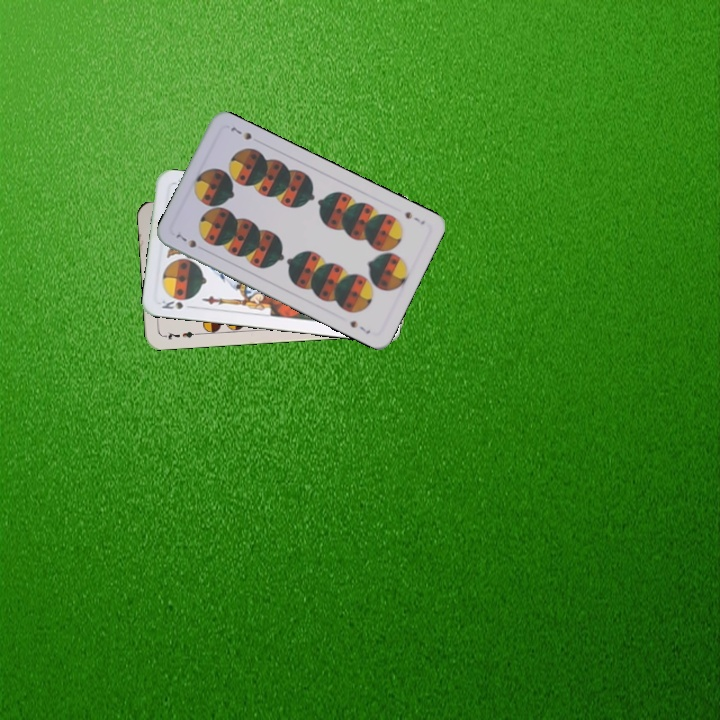E7: (159, 327, 200, 342)
S7: (172, 230, 199, 250), (401, 207, 428, 227)
SK: (158, 296, 186, 312)
